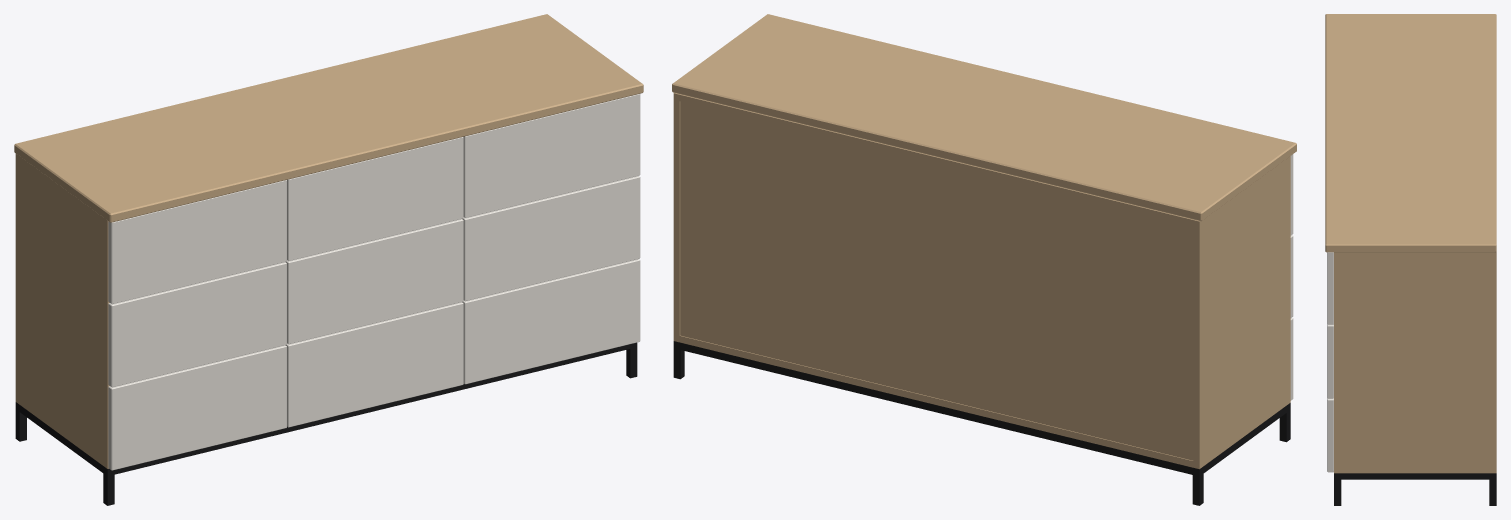
File: 22_komoda_150_3x3.glb
3 renders of one model, left to right at view 1: azimuth 30°, elevation 25°; view 2: azimuth 150°, elevation 25°; view 3: azimuth 270°, elevation 25°, orthographic. The views are drawn at different scales.
Parts seen in each view (by area): view 1: Wierzch, Korpus, Front_szuflada_3, Front_szuflada_2, Front_szuflada_9, Front_szuflada_8, Front_szuflada_5, Front_szuflada_6, Front_szuflada_1, Front_szuflada_7, Front_szuflada_4, Rama; view 2: Korpus, Wierzch, Rama; view 3: Wierzch, Korpus, Rama, Front_szuflada_8, Front_szuflada_9, Front_szuflada_7.
Part boxes in pixels (x1,y1,x2,y2): Wierzch: (14, 14, 643, 222); Korpus: (15, 153, 109, 468); Front_szuflada_3: (108, 345, 286, 470); Front_szuflada_2: (108, 262, 286, 387); Front_szuflada_9: (462, 259, 640, 384); Front_szuflada_8: (462, 176, 640, 301); Front_szuflada_5: (285, 219, 463, 344); Front_szuflada_6: (285, 302, 463, 427); Front_szuflada_1: (108, 180, 286, 304); Front_szuflada_7: (463, 94, 640, 217); Front_szuflada_4: (287, 137, 463, 261); Rama: (15, 342, 637, 505); Korpus: (673, 93, 1290, 469); Wierzch: (672, 14, 1296, 221); Rama: (673, 341, 1290, 505); Wierzch: (1325, 14, 1496, 252); Korpus: (1334, 252, 1496, 473); Rama: (1334, 473, 1496, 505); Front_szuflada_8: (1327, 324, 1333, 398); Front_szuflada_9: (1327, 398, 1333, 472); Front_szuflada_7: (1327, 252, 1333, 324).
Size of the model in its own units: 1.51 by 0.8 by 0.474.
